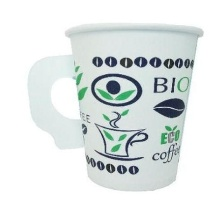paper_cup: (21, 14, 208, 195)
